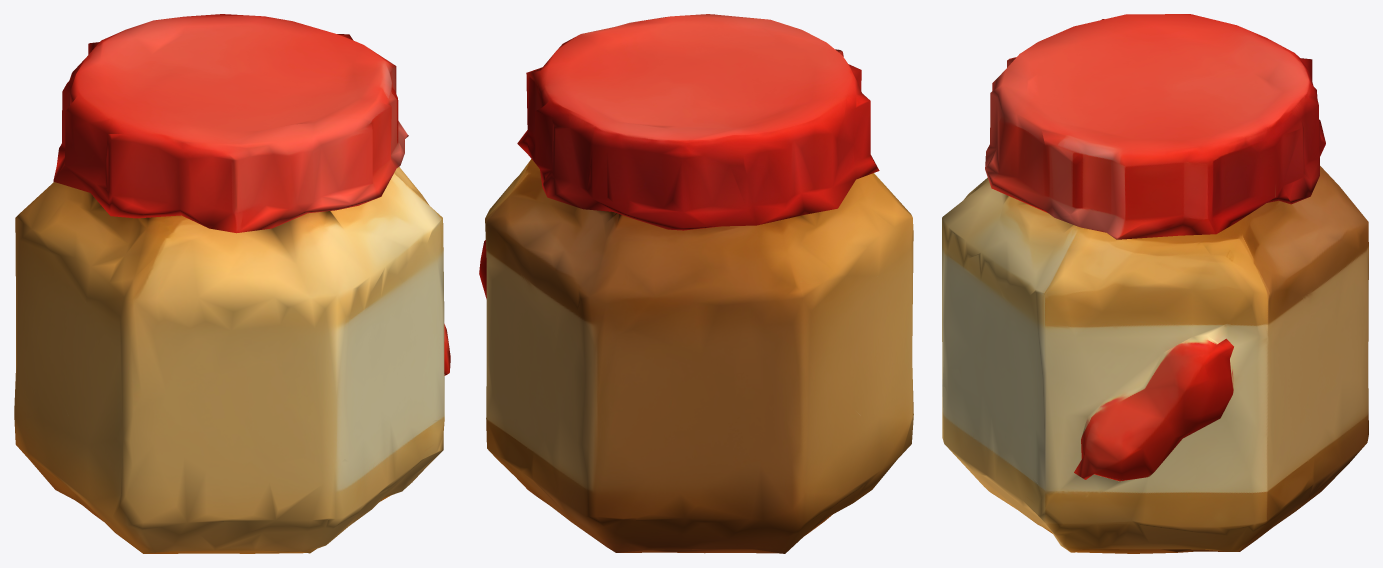
File: peanut-butter-jar.glb
The picture shows the model from 3 angles, left to right: view 1: azimuth 30°, elevation 25°; view 2: azimuth 150°, elevation 25°; view 3: azimuth 270°, elevation 25°; orthographic projection.
Visible parts, largest first — view 1: tripo_node_f1242844-a581-4951-ba6c-c10a15e803b4; view 2: tripo_node_f1242844-a581-4951-ba6c-c10a15e803b4; view 3: tripo_node_f1242844-a581-4951-ba6c-c10a15e803b4.
Boxes of the visible parts, x1,y1,x2,y2 form: tripo_node_f1242844-a581-4951-ba6c-c10a15e803b4: (14,14,450,553); tripo_node_f1242844-a581-4951-ba6c-c10a15e803b4: (479,14,913,553); tripo_node_f1242844-a581-4951-ba6c-c10a15e803b4: (942,14,1368,553).
Bounding box in the file's own units: 0.9022 × 1 × 0.9299.
Materials: 1 (1 with a texture image).
